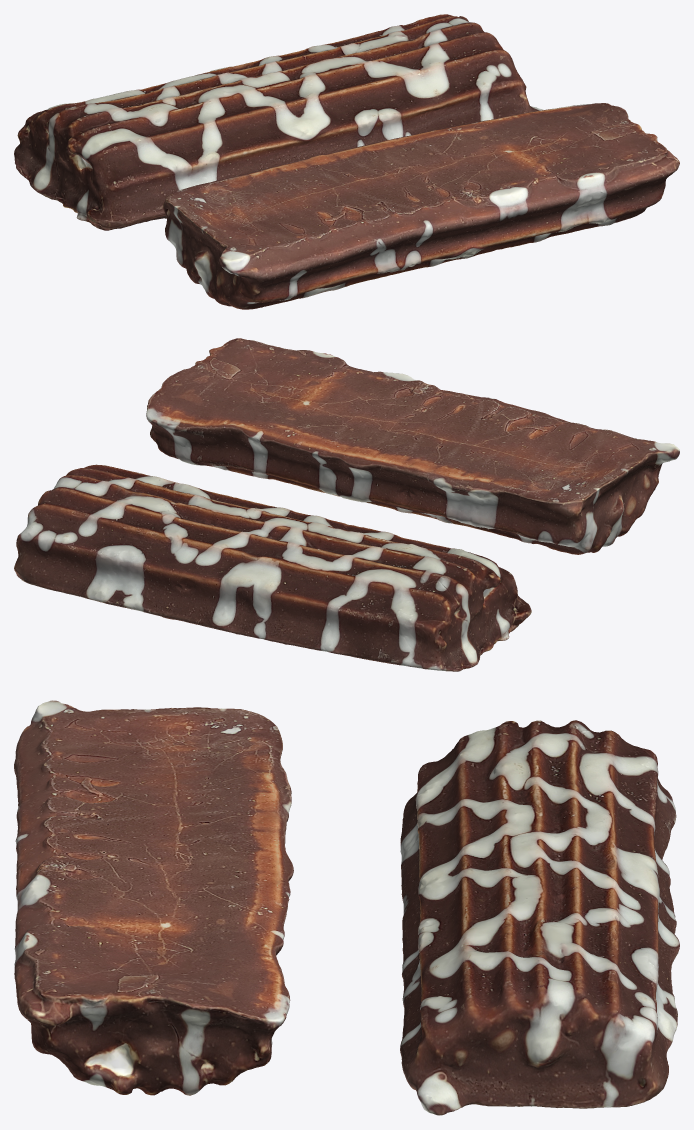
File: marshmallow___scan__free.glb
3 renders of one model, top to bottom at view 1: azimuth 30°, elevation 25°; view 2: azimuth 150°, elevation 25°; view 3: azimuth 270°, elevation 25°, orthographic. The views are drawn at different scales.
Visible parts, largest first — view 1: bw_zefir_copy, bw_zefir; view 2: bw_zefir_copy, bw_zefir; view 3: bw_zefir_copy, bw_zefir.
Boxes of the visible parts, <box> form: bw_zefir_copy: <box>162,103,679,309</box>; bw_zefir: <box>14,14,543,230</box>; bw_zefir_copy: <box>146,338,679,554</box>; bw_zefir: <box>14,464,531,671</box>; bw_zefir_copy: <box>14,700,293,1095</box>; bw_zefir: <box>400,720,679,1115</box>.
Size of the model in its own units: 0.1063 by 0.0185 by 0.096.
1 material, 1 textured.
